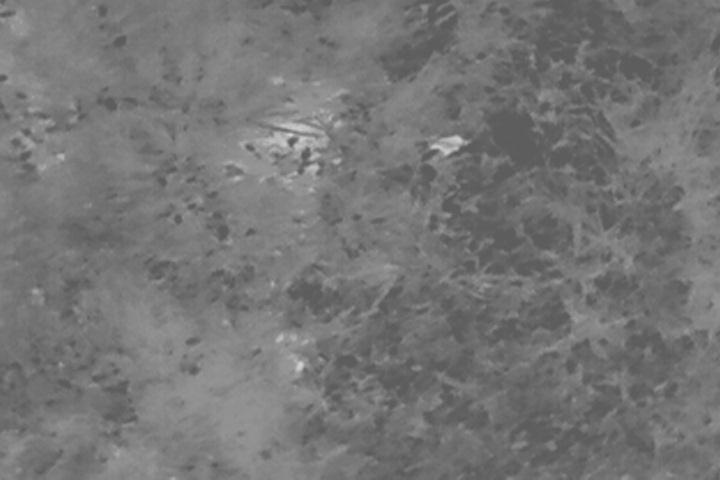landmine: (229, 60, 353, 196)
